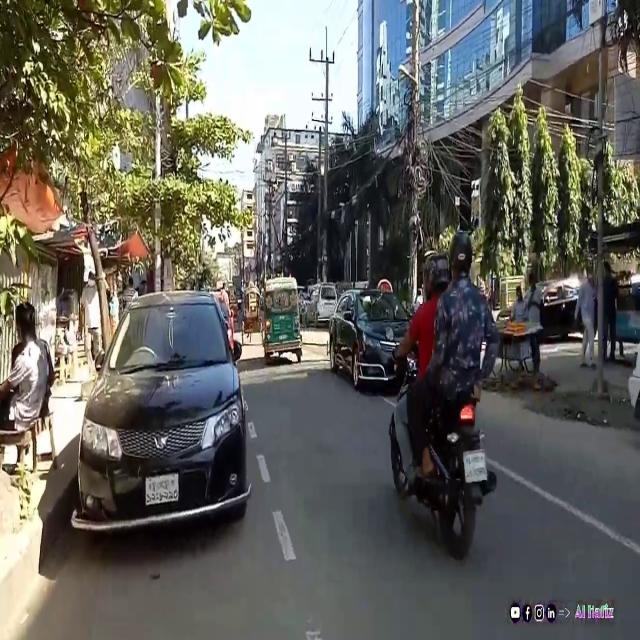black: (78, 292, 248, 532), (329, 295, 428, 390)
white: (307, 282, 339, 324)
